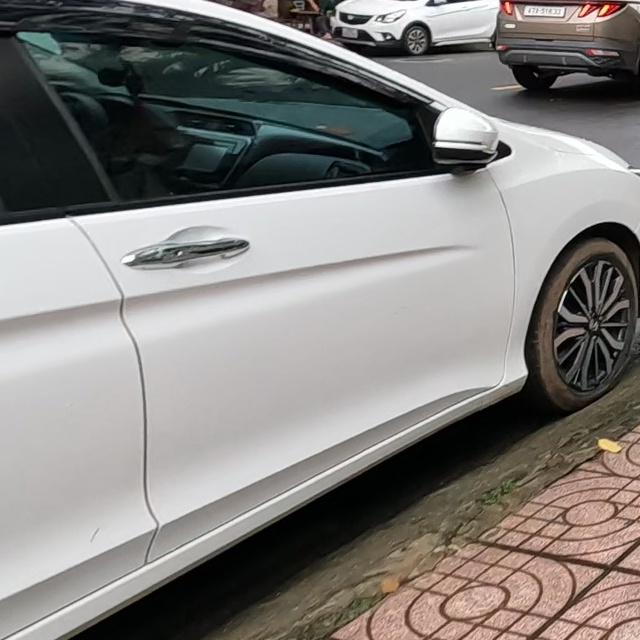license-plate: (523, 5, 566, 17)
